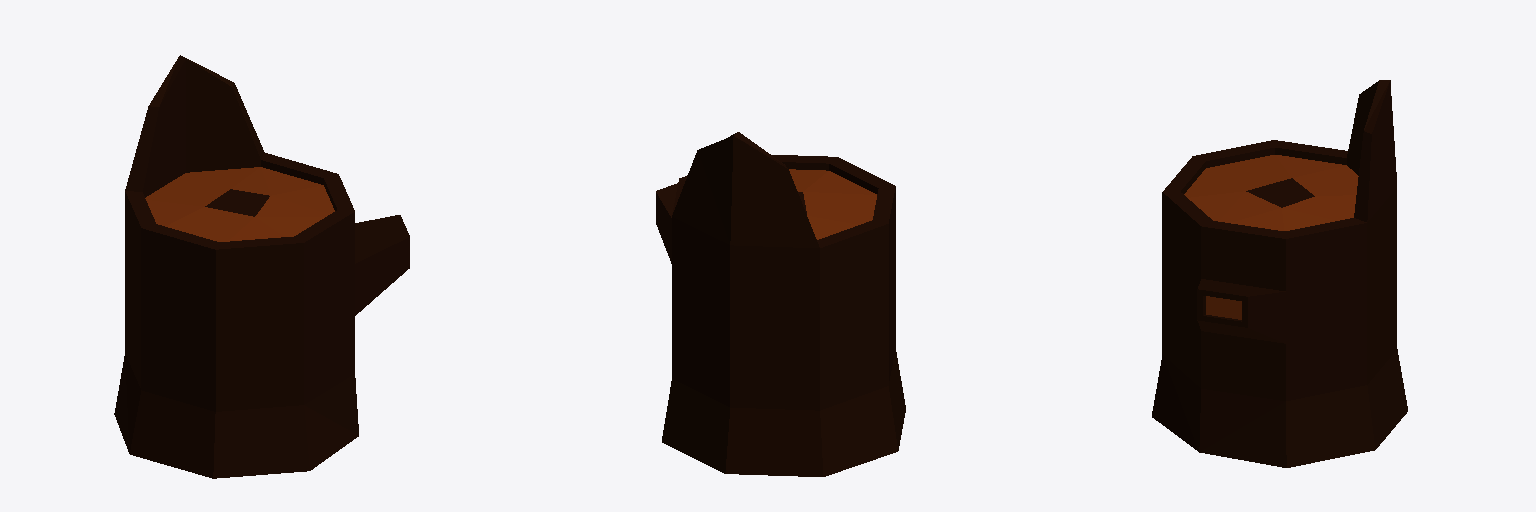
File: stump.obj
3 views of the same model, side by side, from view 1: azimuth 30°, elevation 25°; view 2: azimuth 150°, elevation 25°; view 3: azimuth 270°, elevation 25° (orthographic).
Visible parts, largest first — view 1: Stump1; view 2: Stump1; view 3: Stump1.
Part boxes in pixels (bbox=[...]): Stump1: bbox=[114, 55, 409, 478]; Stump1: bbox=[656, 132, 905, 476]; Stump1: bbox=[1152, 80, 1407, 467].
Size of the model in its own units: 0.0211 by 0.0261 by 0.0183.